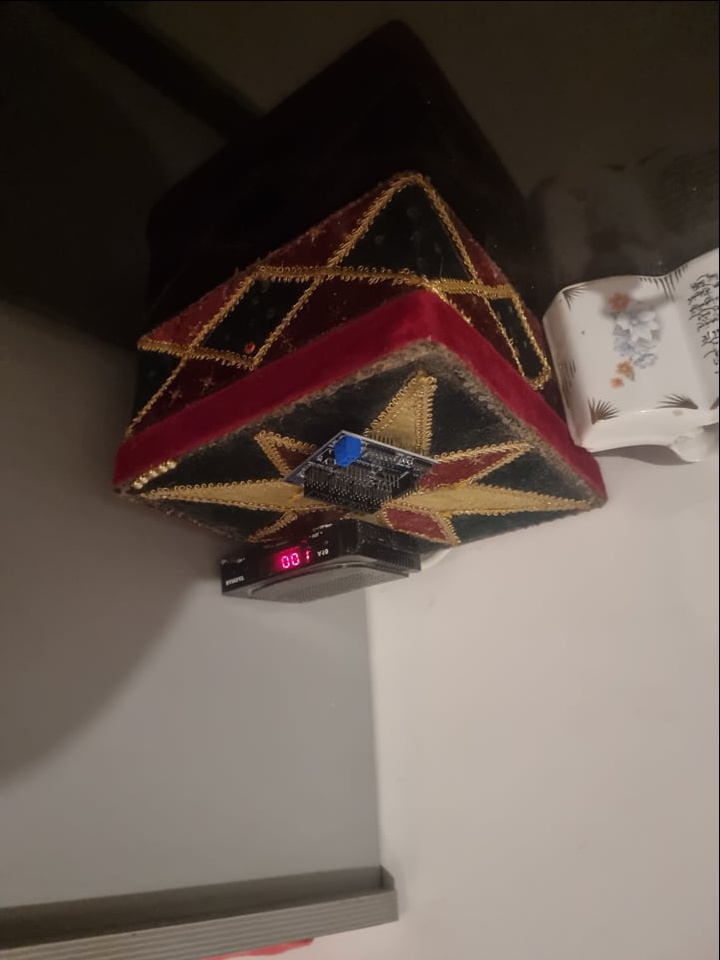5V EXPANSION: (283, 427, 439, 517)
